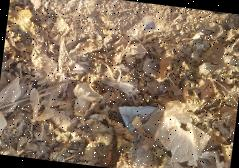organic: (66, 78, 106, 118), (5, 1, 39, 40), (66, 30, 106, 59), (80, 118, 118, 148), (108, 30, 130, 76), (157, 40, 179, 84), (50, 12, 71, 38), (219, 137, 233, 165)
